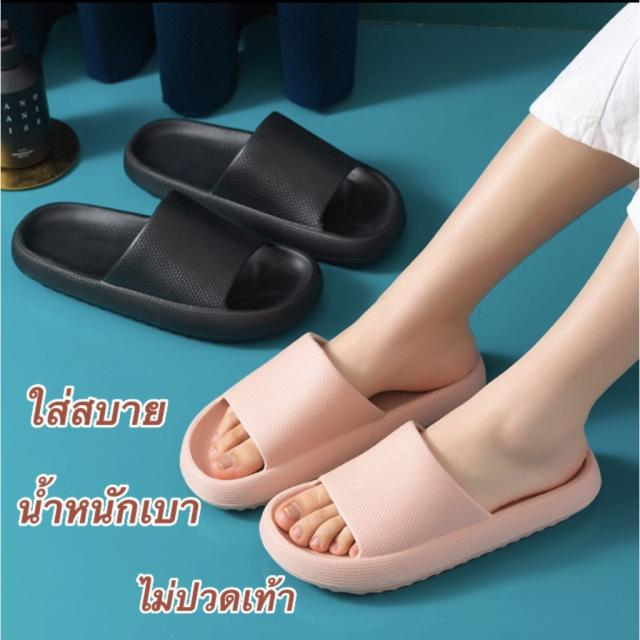Sandals: (146, 291, 632, 628)
